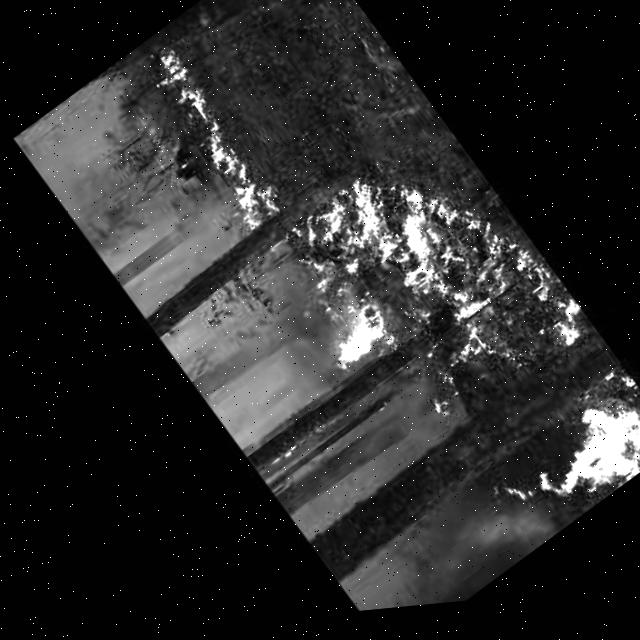Smoke: (242, 112, 640, 603), (98, 33, 287, 263)
